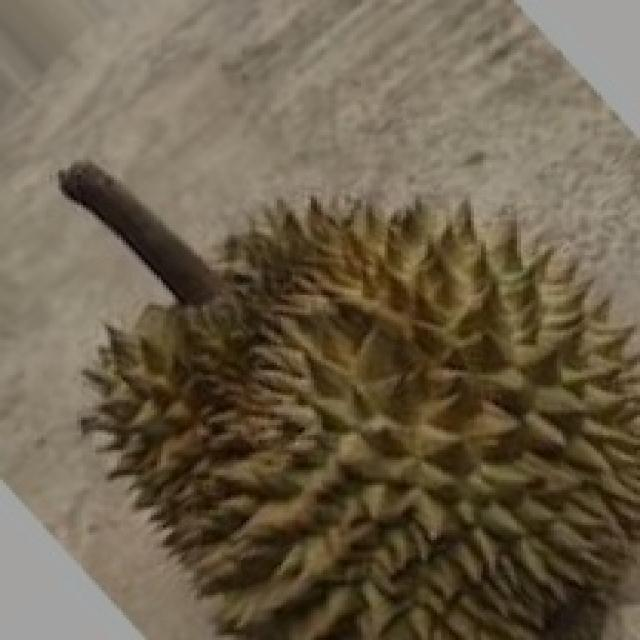fruit: (12, 238, 388, 638)
